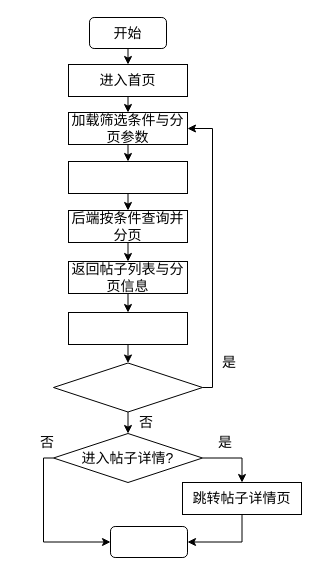
Image size: 319x575. Some labels were removed from this diagram. Each missing label, with the box of its shape:
前端渲染卡片列表: (68, 312, 188, 344)
结束: (110, 526, 188, 558)
继续筛选或翻页?: (52, 362, 202, 412)
调用帖子列表接口: (68, 160, 188, 194)
